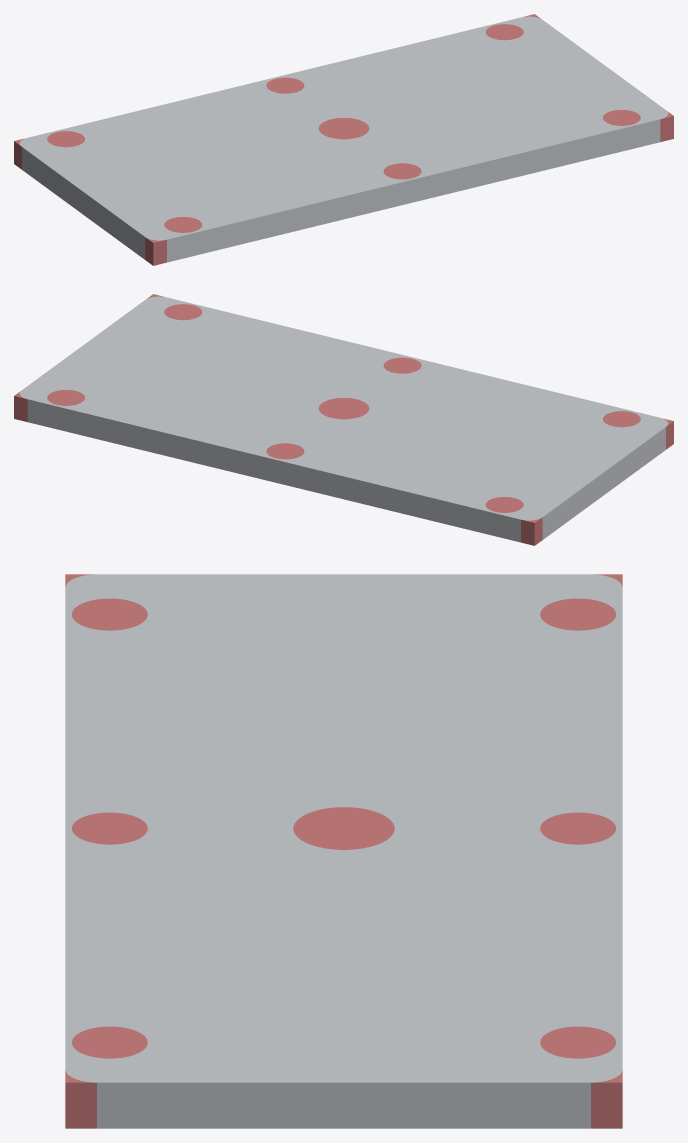
File: step_08.glb
The picture shows the model from 3 angles, top to bottom: view 1: azimuth 30°, elevation 25°; view 2: azimuth 150°, elevation 25°; view 3: azimuth 270°, elevation 25°; orthographic projection. The views are drawn at different scales.
Parts seen in each view (by area): view 1: part__cover, removed__cover; view 2: part__cover, removed__cover; view 3: part__cover, removed__cover.
Boxes of the visible parts, box(x1,y1,x2,y2) form: part__cover: box(19, 16, 668, 262); removed__cover: box(14, 14, 673, 265); part__cover: box(19, 296, 668, 542); removed__cover: box(14, 294, 673, 545); part__cover: box(65, 574, 622, 1128); removed__cover: box(65, 574, 622, 1128).
Size of the model in its own units: 190 by 8 by 88.
